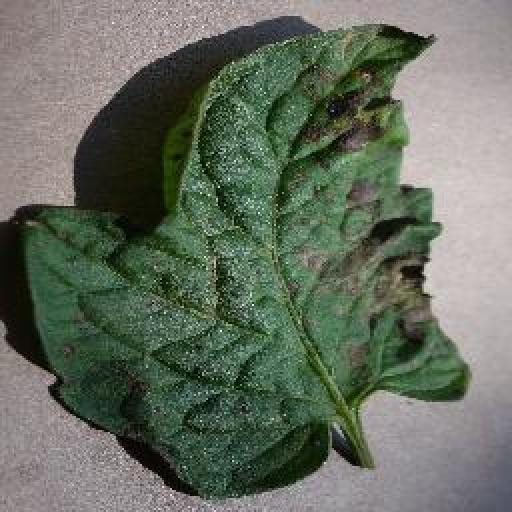Early Blight: (19, 21, 476, 499)
